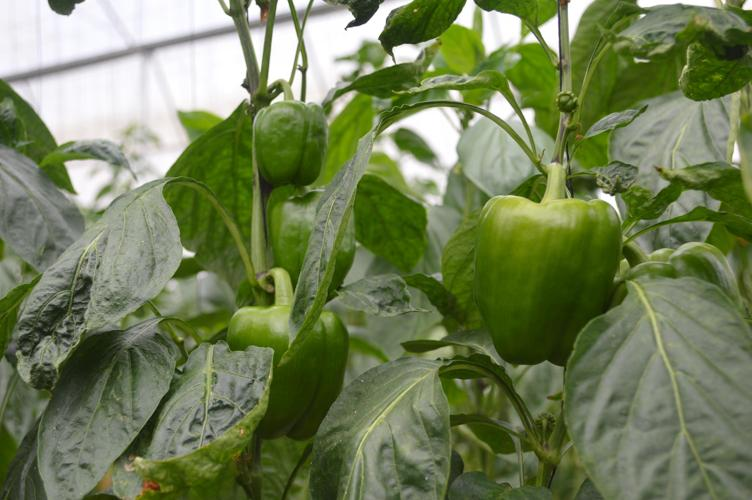BellPepper: (467, 185, 630, 363), (219, 300, 357, 460), (258, 182, 367, 290), (242, 94, 341, 185)
